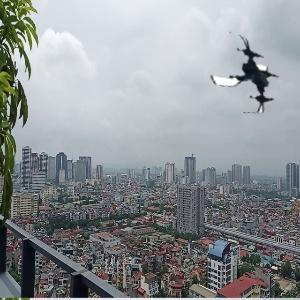drone: (202, 33, 286, 117)
